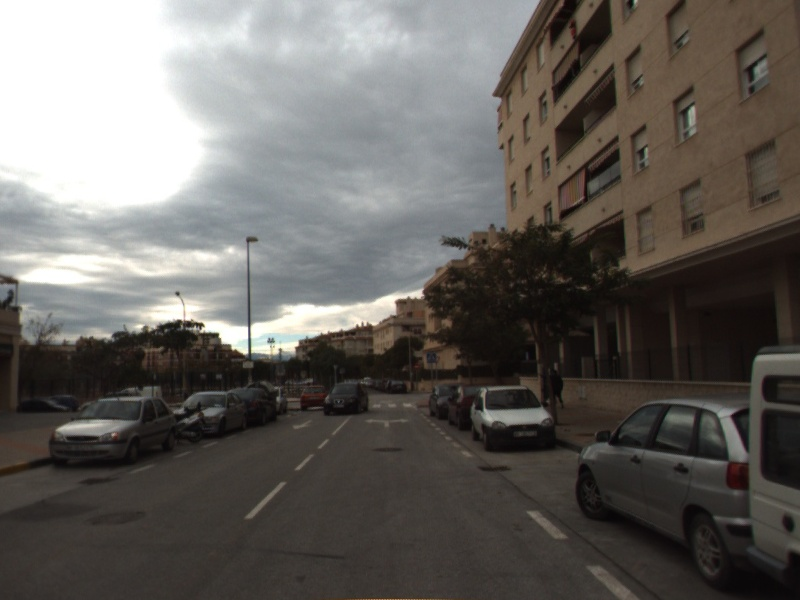LEFT_RIGHT: (363, 416, 411, 429)
